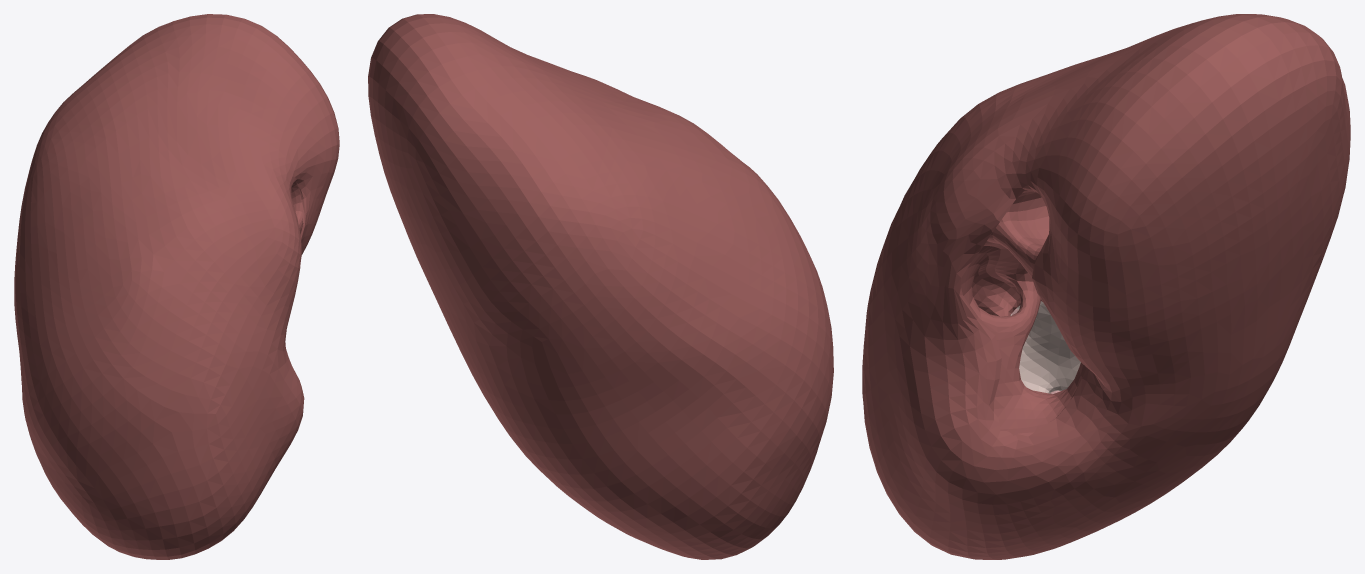
File: VH_F_Kidney_R_0.8.glb
The picture shows the model from 3 angles, left to right: view 1: azimuth 30°, elevation 25°; view 2: azimuth 150°, elevation 25°; view 3: azimuth 270°, elevation 25°; orthographic projection. The views are drawn at different scales.
Visible parts, largest first — view 1: VH_F_kidney_capsule_R; view 2: VH_F_kidney_capsule_R; view 3: VH_F_kidney_capsule_R, VH_F_hilum_of_kidney_R, VH_F_renal_column_R.
Part boxes in pixels (x1=…): VH_F_kidney_capsule_R: x1=14, y1=14, x2=339, y2=559; VH_F_kidney_capsule_R: x1=368, y1=14, x2=833, y2=559; VH_F_kidney_capsule_R: x1=862, y1=14, x2=1350, y2=559; VH_F_hilum_of_kidney_R: x1=961, y1=189, x2=1086, y2=435; VH_F_renal_column_R: x1=1010, y1=301, x2=1080, y2=393.
Bounding box in the file's own units: 0.0734 × 0.0979 × 0.0695.
